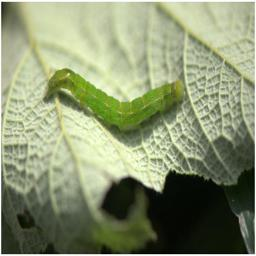Tobacco_budworm: (43, 67, 185, 131)
